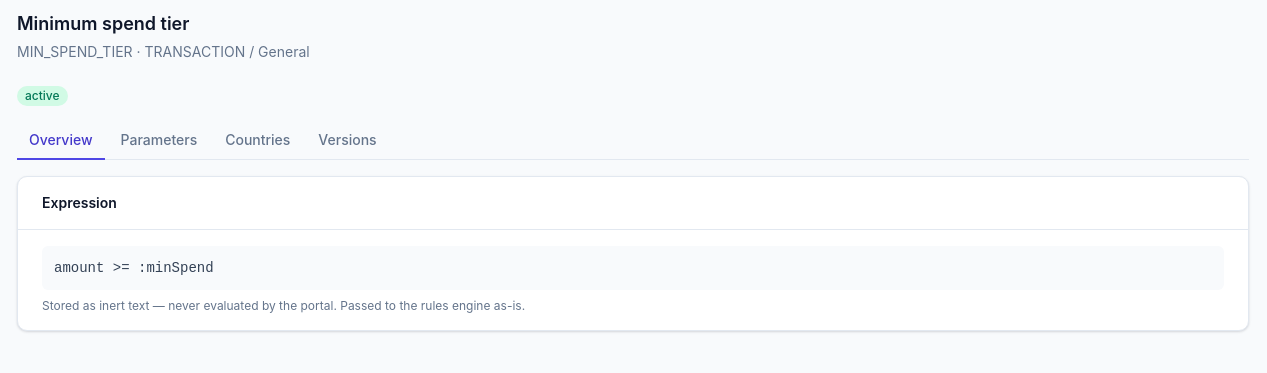
it: RuleDetailPage › TC-5: the Parameters tab shows the correct role per field from the API response
Click the tab "Parameters": (159, 141) [108,122,209,160]
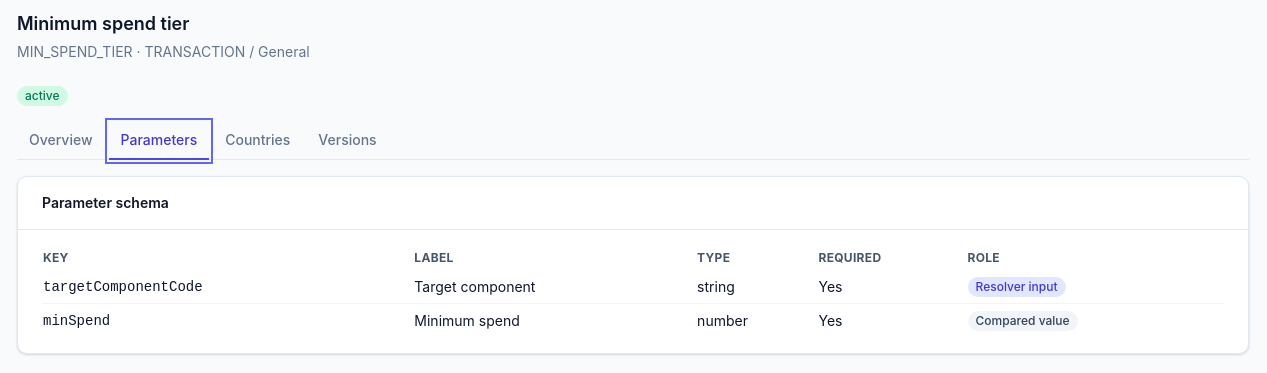
Result: the text "Resolver input" is shown at [968,277,1066,297]
Result: the text "Compared value" is shown at [968,311,1078,331]
